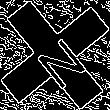N_NW: (23, 22, 87, 88)
